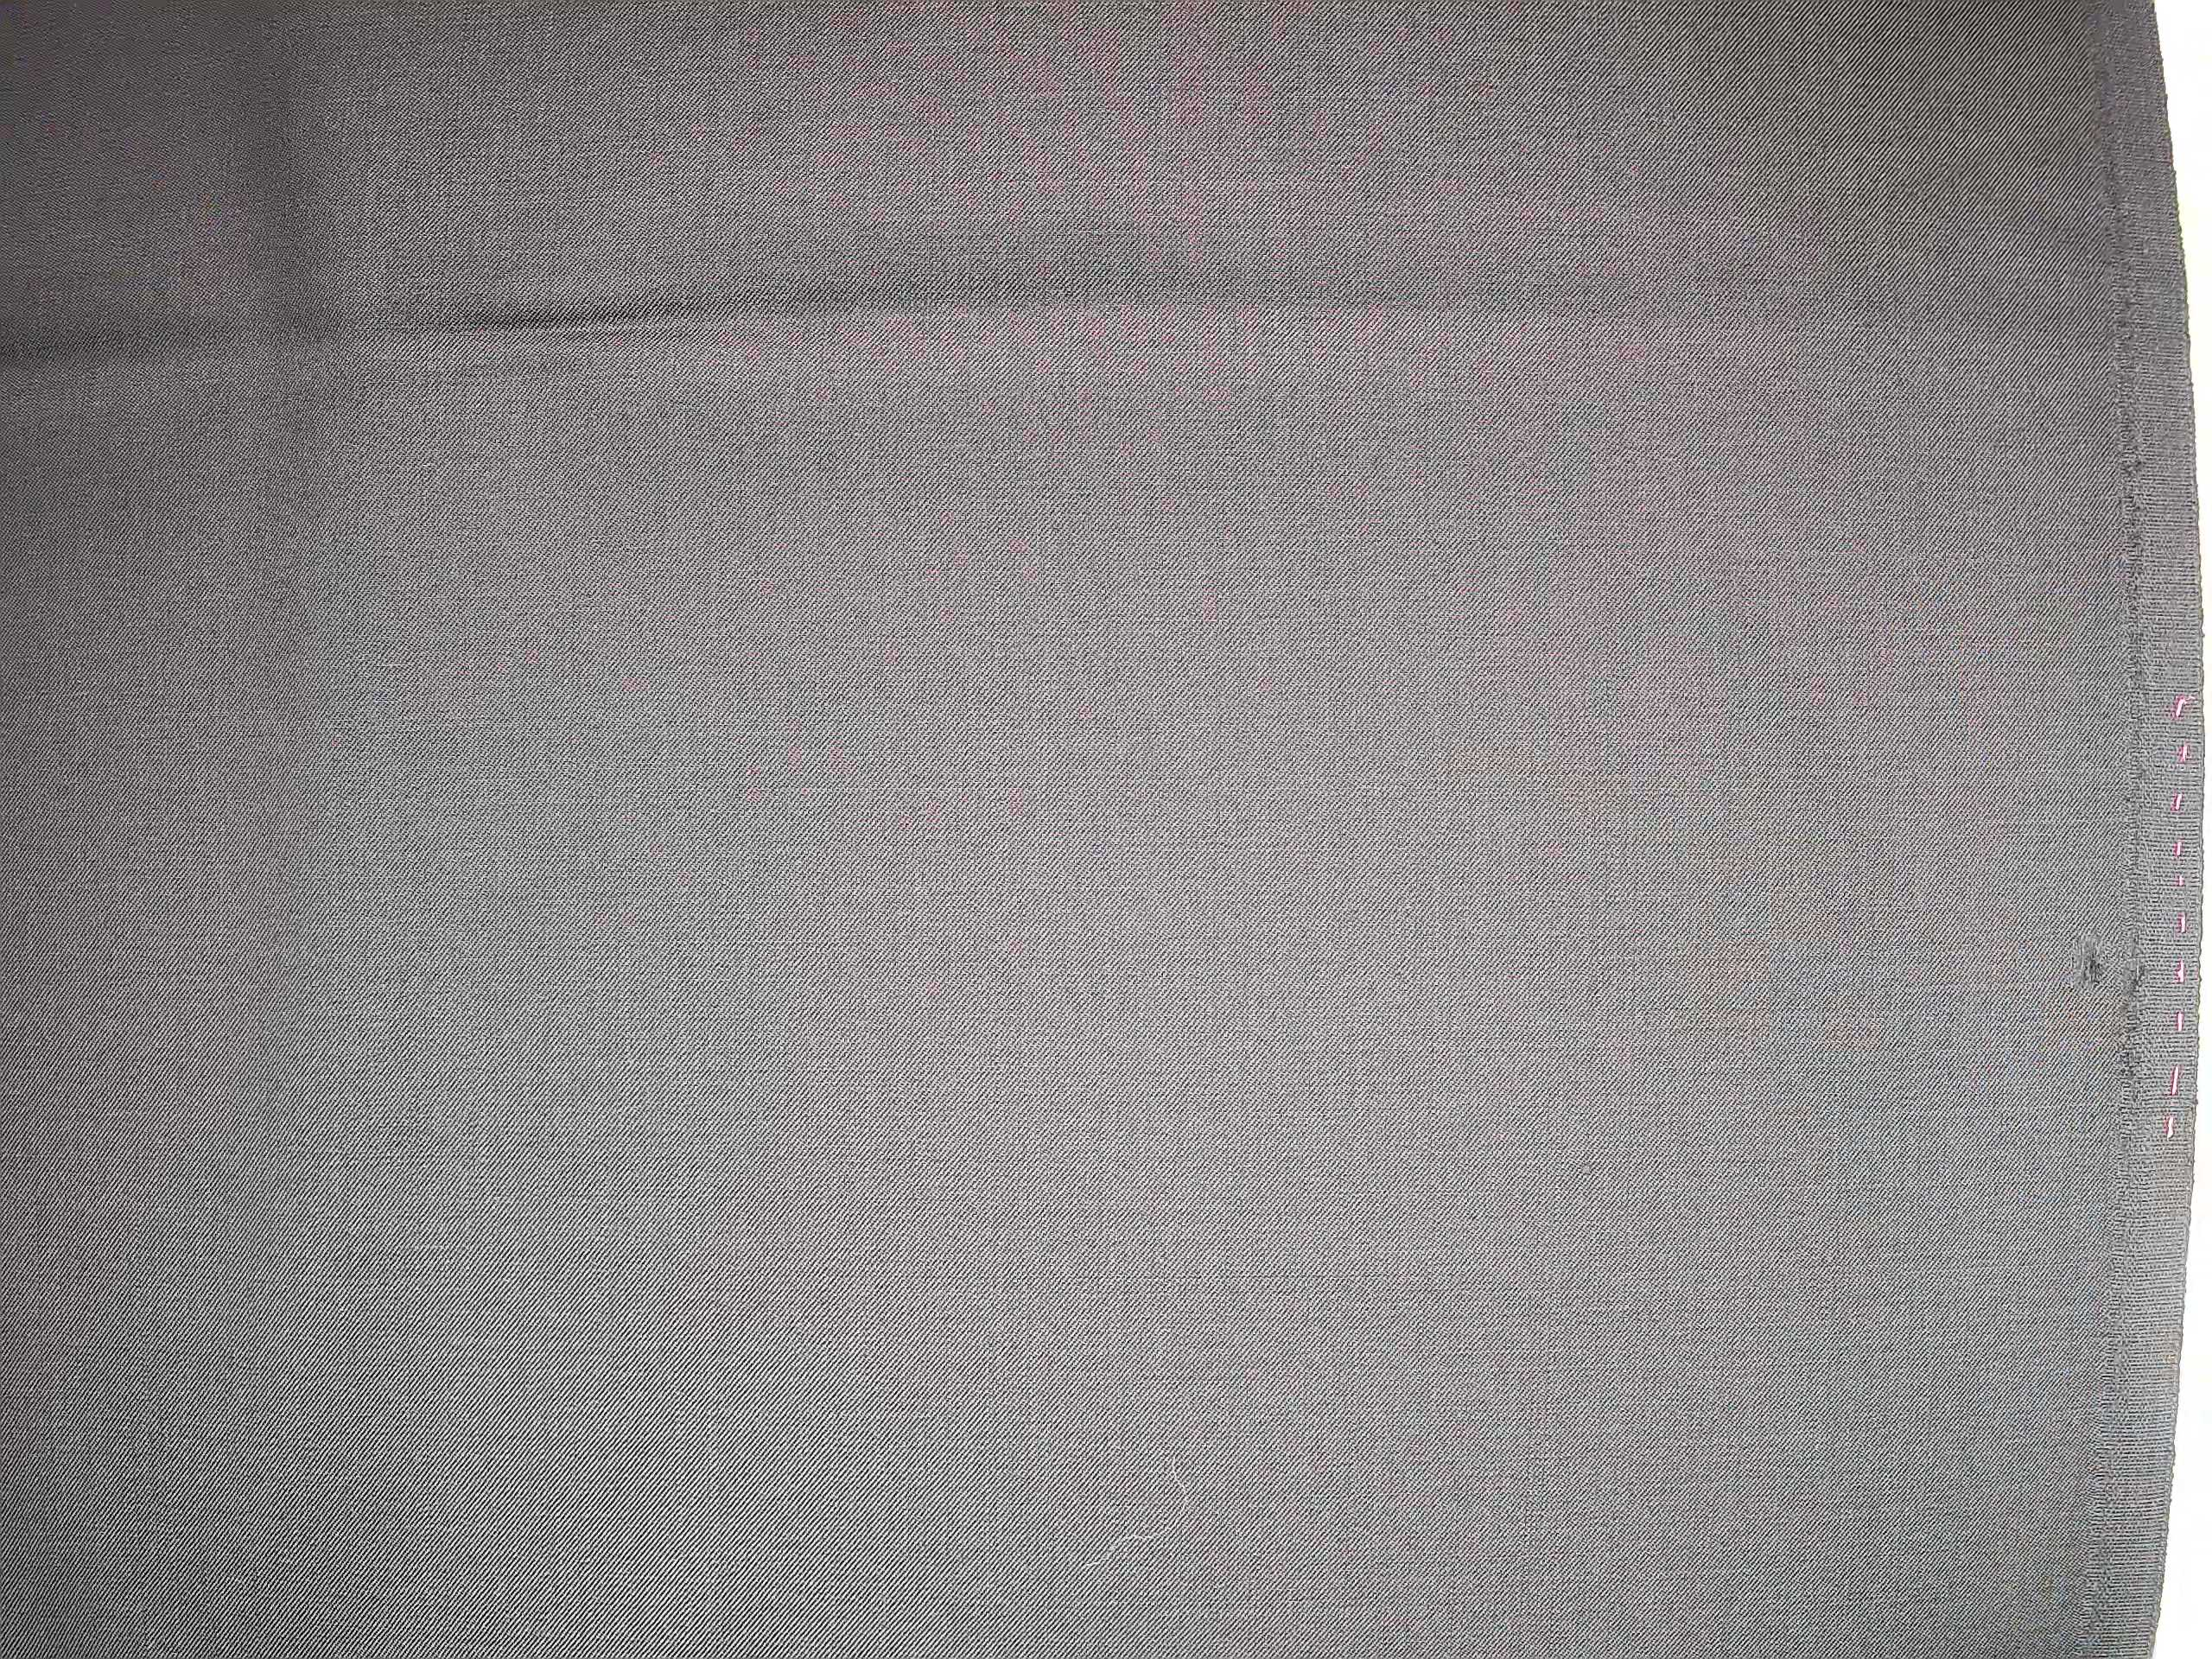brushed-hole: (2052, 917, 2139, 1046)
